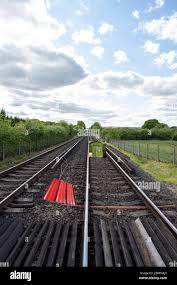Color_steel: (43, 174, 81, 209)
Green_house: (83, 138, 108, 158)
